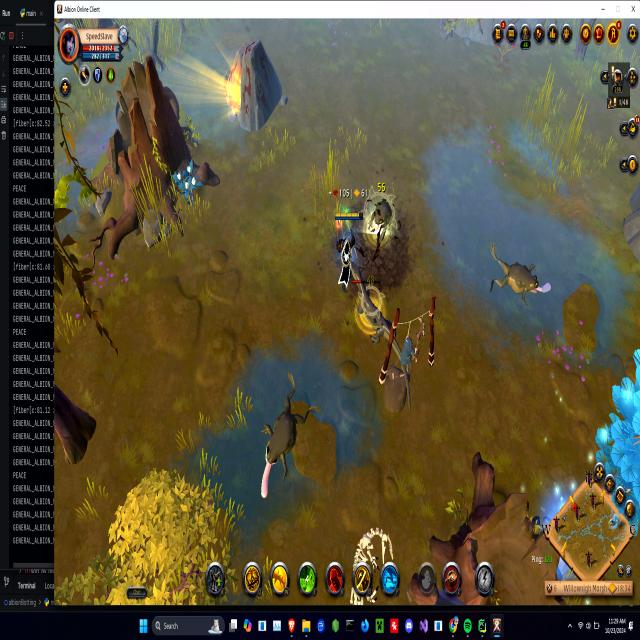hide: (168, 160, 204, 214)
ore: (344, 250, 416, 420), (366, 190, 400, 245)
red: (330, 209, 364, 289)
wisp caged: (547, 345, 640, 579)
